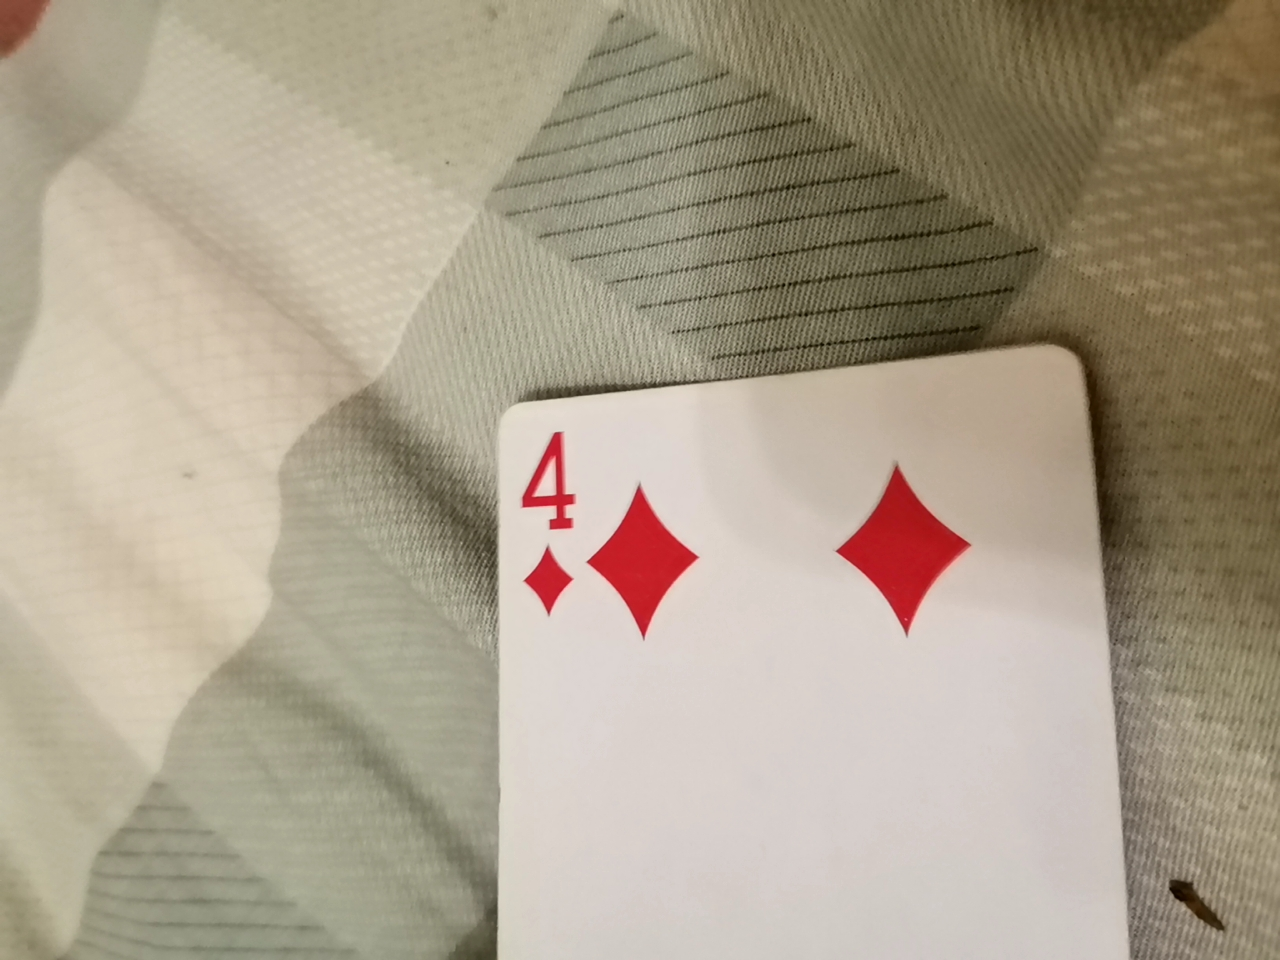fk 4: (459, 342, 1163, 957)
